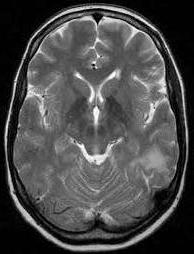Normal_Brain: (1, 1, 191, 254)
